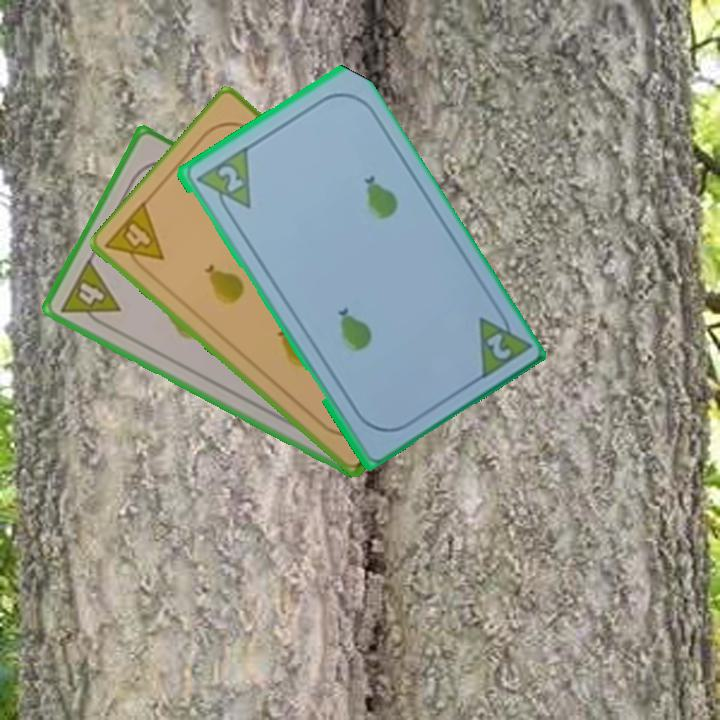2p: (213, 161, 246, 195), (482, 329, 514, 363)
4p: (101, 198, 167, 281), (56, 255, 123, 333)
